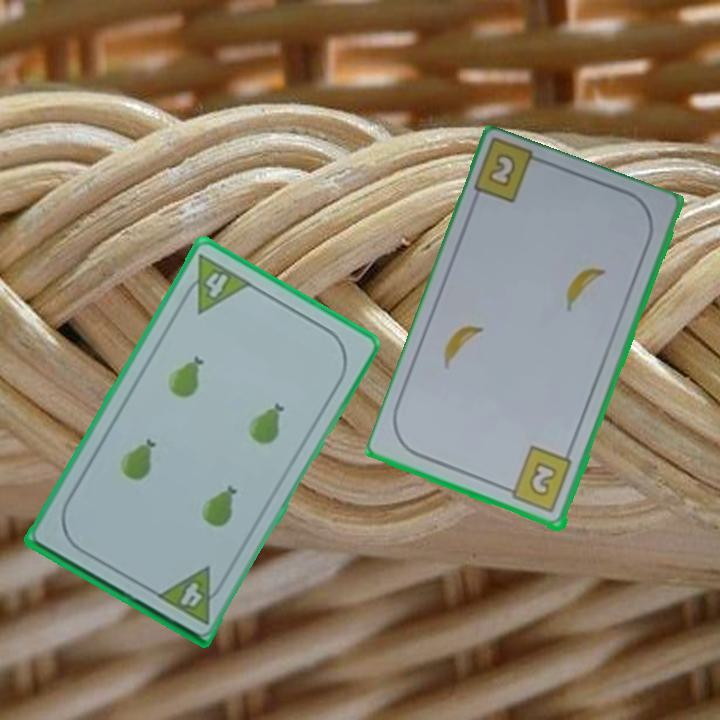2b: (500, 443, 575, 516), (484, 153, 517, 191)
4p: (176, 250, 255, 317), (153, 563, 229, 627)
